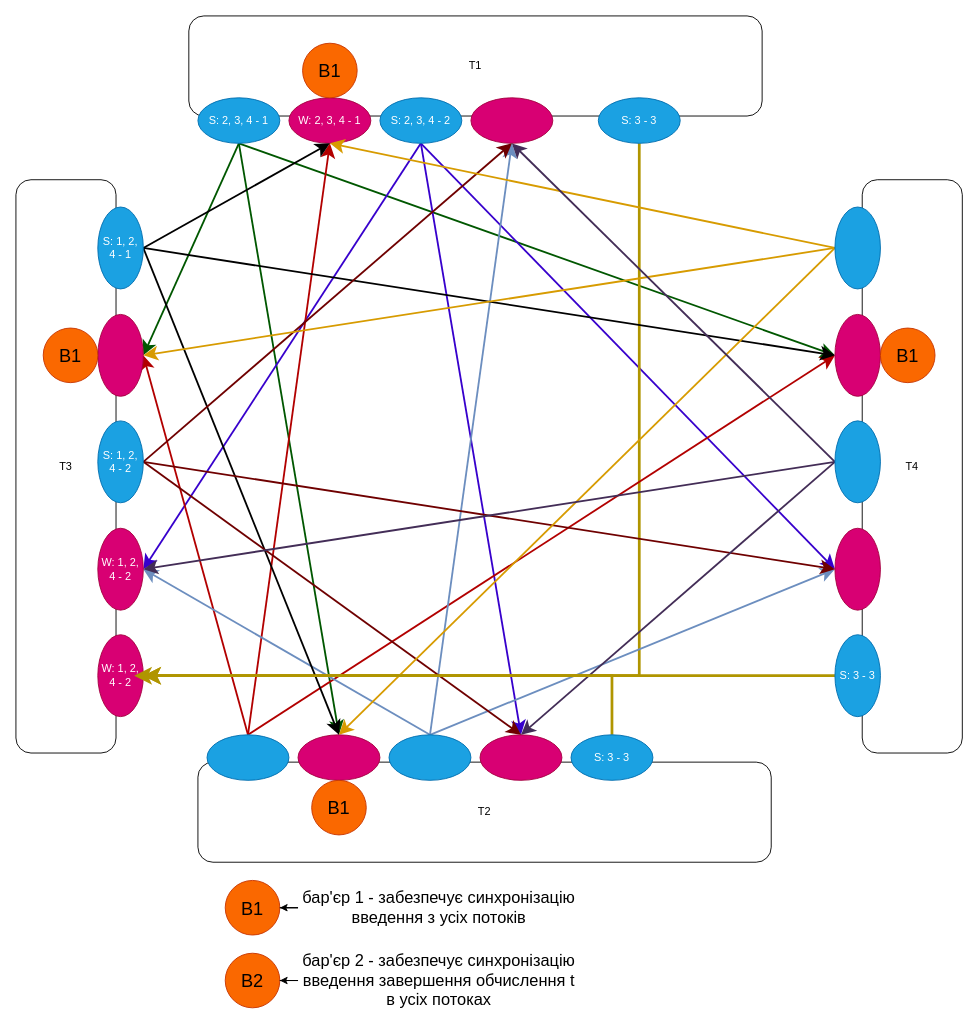
This 978x1026 diagram has some shape labels left out. Each missing label, with the centre of its shape:
S: 1, 2, 3 - 1: pixel 857 247
S: 1, 2, 3 - 2: pixel 857 461
S: 1, 3, 4 - 1: pixel 247 757
S: 1, 3, 4 - 2: pixel 429 757
W: 1, 2, 3 - 1: pixel 857 354
W: 1, 2, 3 - 2: pixel 857 568
W: 1, 2, 4 - 1: pixel 120 354
W: 1, 3, 4 - 1: pixel 338 757
W: 1, 3, 4 - 2: pixel 520 757
W: 2, 3, 4 - 2: pixel 511 120
